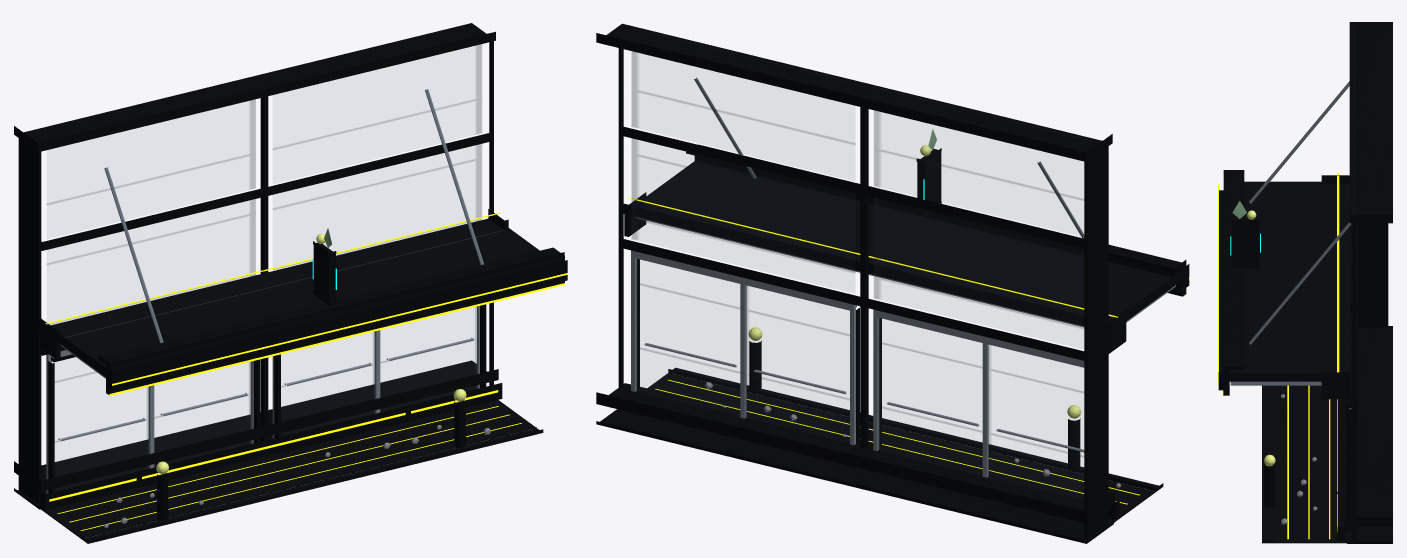
The model's file is v3_river.glb.
3 renders of one model, left to right at view 1: azimuth 30°, elevation 25°; view 2: azimuth 150°, elevation 25°; view 3: azimuth 270°, elevation 25°, orthographic. The views are drawn at different scales.
Parts seen in each view (by area): view 1: Frame, Canopy, River_Mat, Fascia_Gunmetal, Fascia_Slate, Pebble_Nosing, Court_Line_LED, Door_Stiles, River_LED, Tie_Rods, Glass_Upper_00, Glass_Upper_10 (+6 smaller); view 2: Frame, Canopy, River_Mat, Door_Stiles, Pebble_Nosing, Fascia_Slate, Fascia_Gunmetal, Glass_Upper_10, Glass_Upper_00, Glass_Upper_11, Glass_Door_10, Glass_Upper_01 (+10 smaller); view 3: Frame, Canopy, River_Mat, Fascia_Gunmetal, Pebble_Nosing, Tie_Rods, Blade_Core, River_LED, Court_Line_LED, Canopy_Soffit, Ball_Bollards, Blade_Frame.
Boxes of the visible parts, <box> form: Frame: <box>14,23,502,510</box>; Canopy: <box>38,209,539,376</box>; River_Mat: <box>40,400,536,538</box>; Fascia_Gunmetal: <box>98,247,567,391</box>; Fascia_Slate: <box>106,255,564,394</box>; Pebble_Nosing: <box>81,428,543,543</box>; Court_Line_LED: <box>45,212,567,395</box>; Door_Stiles: <box>46,306,479,493</box>; River_LED: <box>57,406,521,530</box>; Tie_Rods: <box>104,89,483,343</box>; Glass_Upper_00: <box>47,199,255,324</box>; Glass_Upper_10: <box>273,144,481,269</box>; Frame: <box>596,23,1119,543</box>; Canopy: <box>623,161,1182,353</box>; River_Mat: <box>647,373,1156,522</box>; Door_Stiles: <box>631,250,1084,477</box>; Pebble_Nosing: <box>668,367,1163,491</box>; Fascia_Slate: <box>694,155,1186,296</box>; Fascia_Gunmetal: <box>686,144,1189,287</box>; Glass_Upper_10: <box>631,138,855,273</box>; Glass_Upper_00: <box>874,198,1083,329</box>; Glass_Upper_11: <box>631,29,855,145</box>; Glass_Door_10: <box>745,285,849,417</box>; Glass_Upper_01: <box>874,110,1083,201</box>; Frame: <box>1337,22,1392,543</box>; Canopy: <box>1229,175,1350,399</box>; River_Mat: <box>1274,385,1346,543</box>; Fascia_Gunmetal: <box>1218,170,1244,390</box>; Pebble_Nosing: <box>1262,385,1273,543</box>; Tie_Rods: <box>1249,81,1351,344</box>; Blade_Core: <box>1233,223,1257,265</box>; River_LED: <box>1287,385,1330,539</box>; Court_Line_LED: <box>1218,173,1339,395</box>; Canopy_Soffit: <box>1230,381,1321,385</box>; Ball_Bollards: <box>1264,466,1274,507</box>; Blade_Frame: <box>1231,220,1259,268</box>.
Size of what is drawn, in the model's own units: 8 by 6.1 by 2.94.
Materials: 10 (5 with a texture image).
